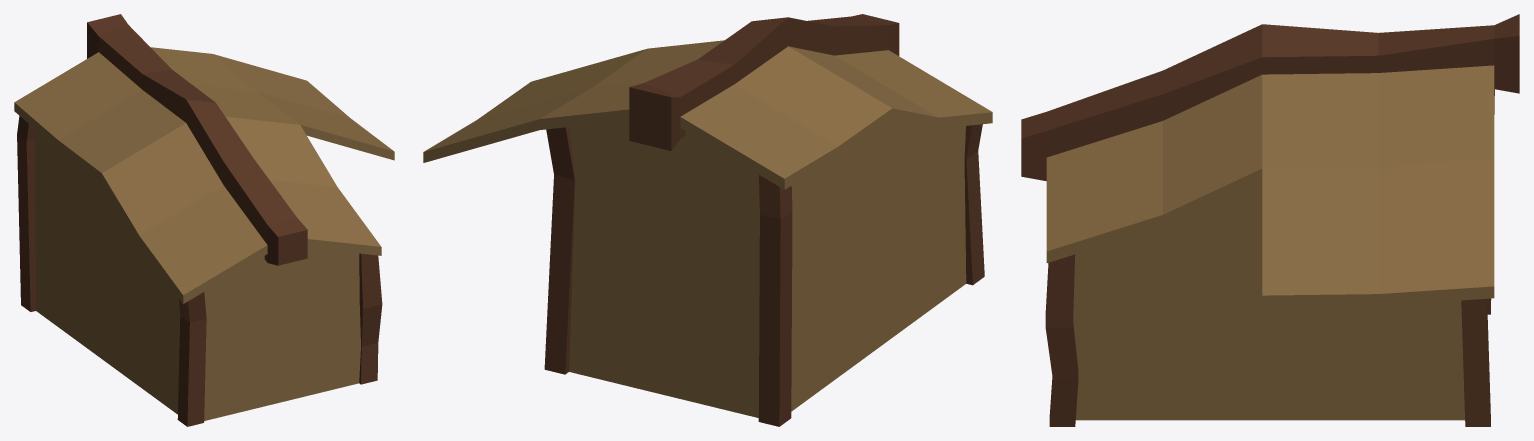
Rendered from StiltBuilding_03.fbx.
The picture shows the model from 3 angles, left to right: view 1: azimuth 30°, elevation 25°; view 2: azimuth 150°, elevation 25°; view 3: azimuth 270°, elevation 25°; orthographic projection. The views are drawn at different scales.
Visible parts, largest first — view 1: House_3; view 2: House_3; view 3: House_3.
Boxes of the visible parts, bbox=[...] form: House_3: bbox=[14, 14, 394, 426]; House_3: bbox=[423, 14, 992, 426]; House_3: bbox=[1021, 14, 1519, 426].
Bounding box in the file's own units: 230 × 193 × 256.
